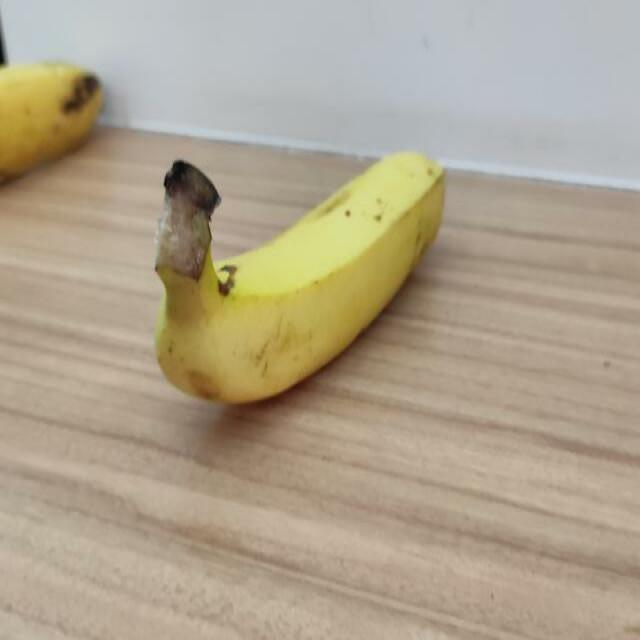Ripe: (137, 110, 452, 412)
